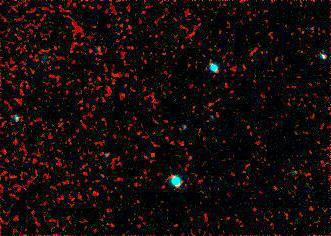star: (91, 160, 121, 190)
